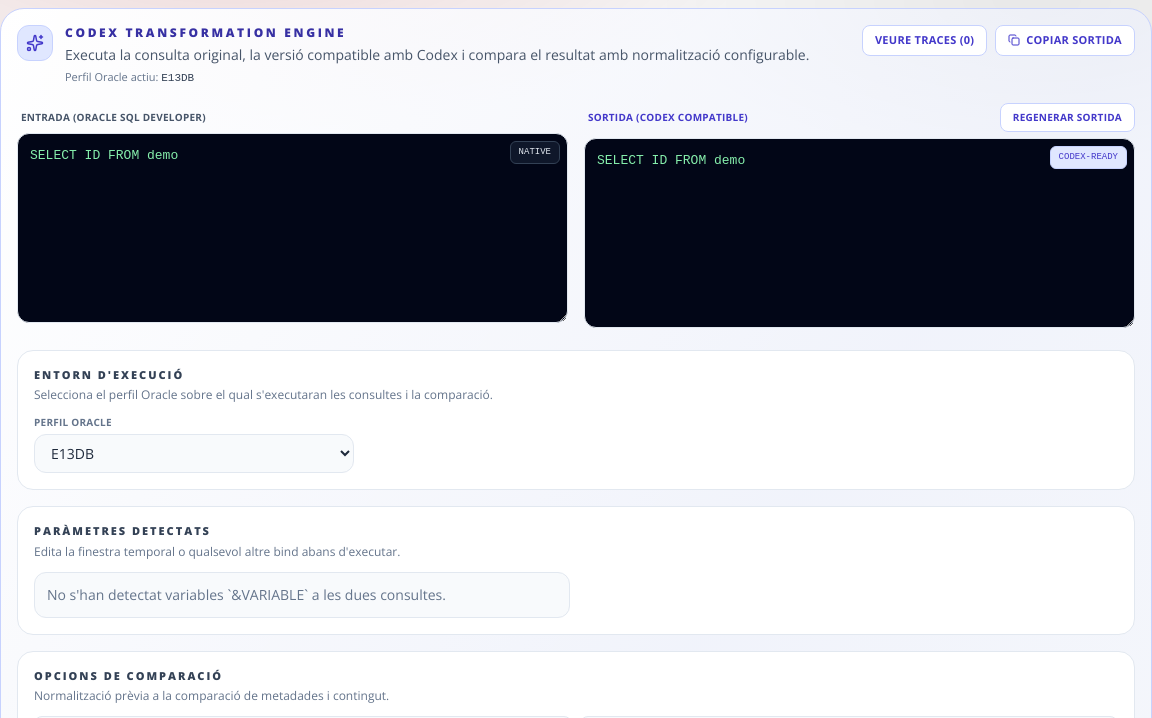
SQLCodexWorkbench compares results and renders ai analysis
Select "E13QA" in the dropdown named "Entorn d'execució" at (194, 454), box [34,434,354,473]
(page scrolled)
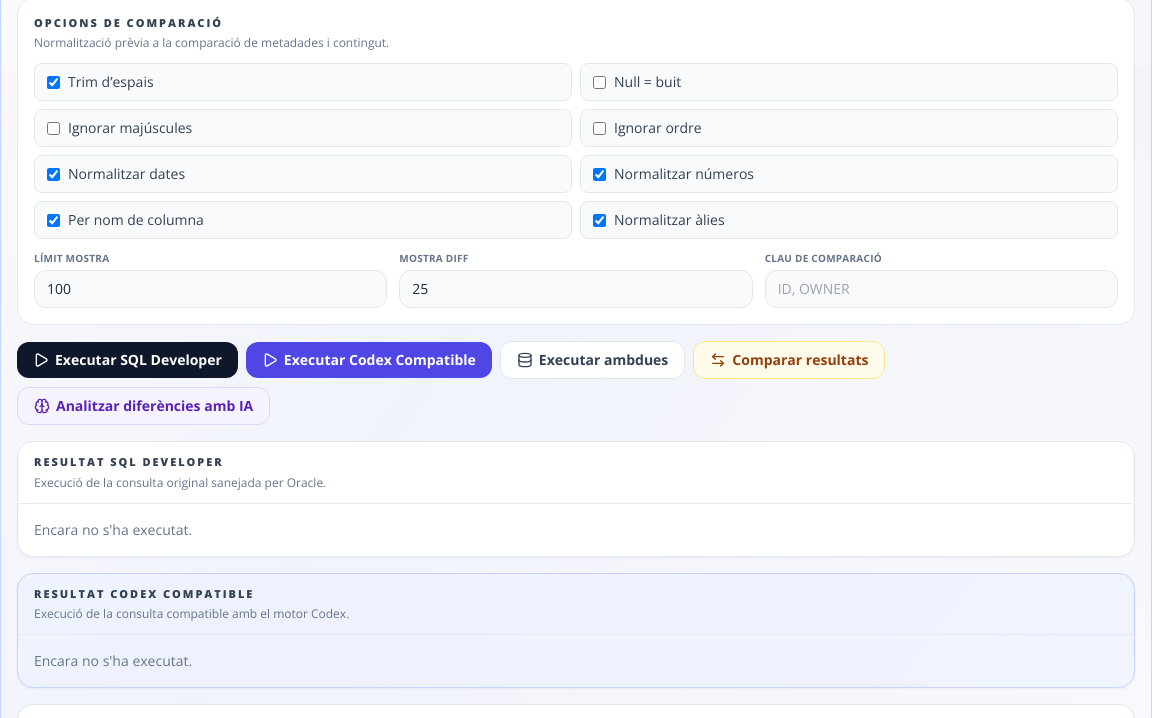
Click the button "Comparar resultats" at (789, 360), box [693,341,885,379]
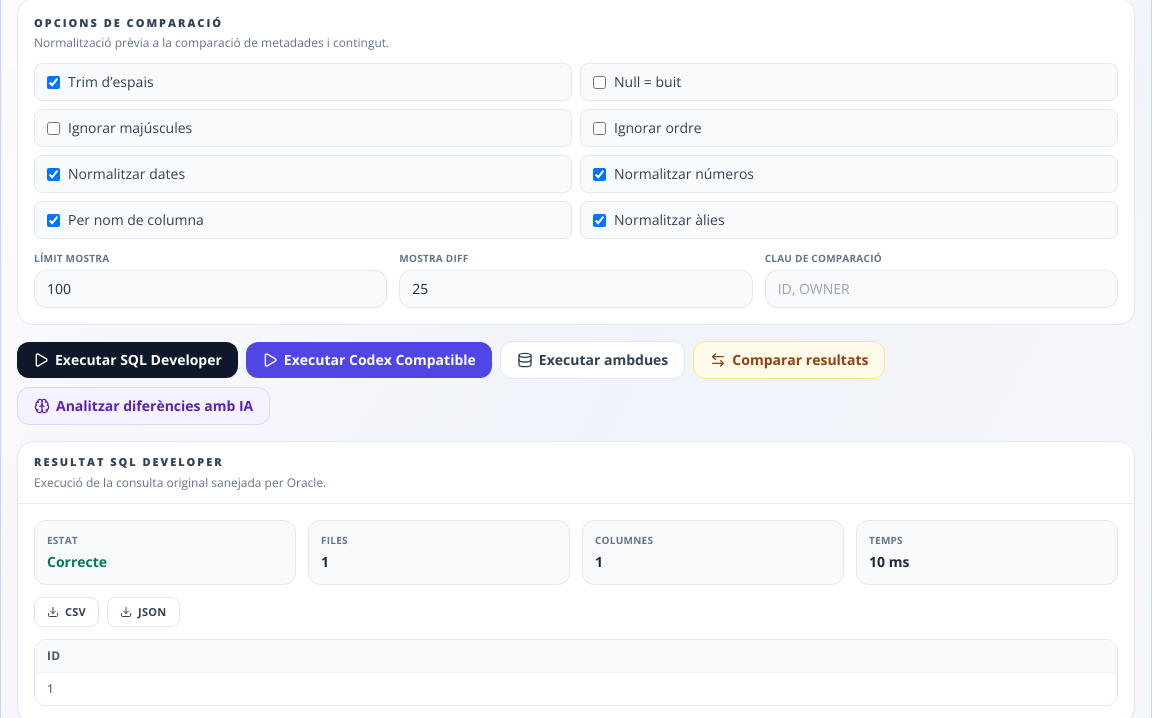
Click the button "Analitzar diferències amb IA" at (144, 406), box [17,387,270,425]
(page scrolled)
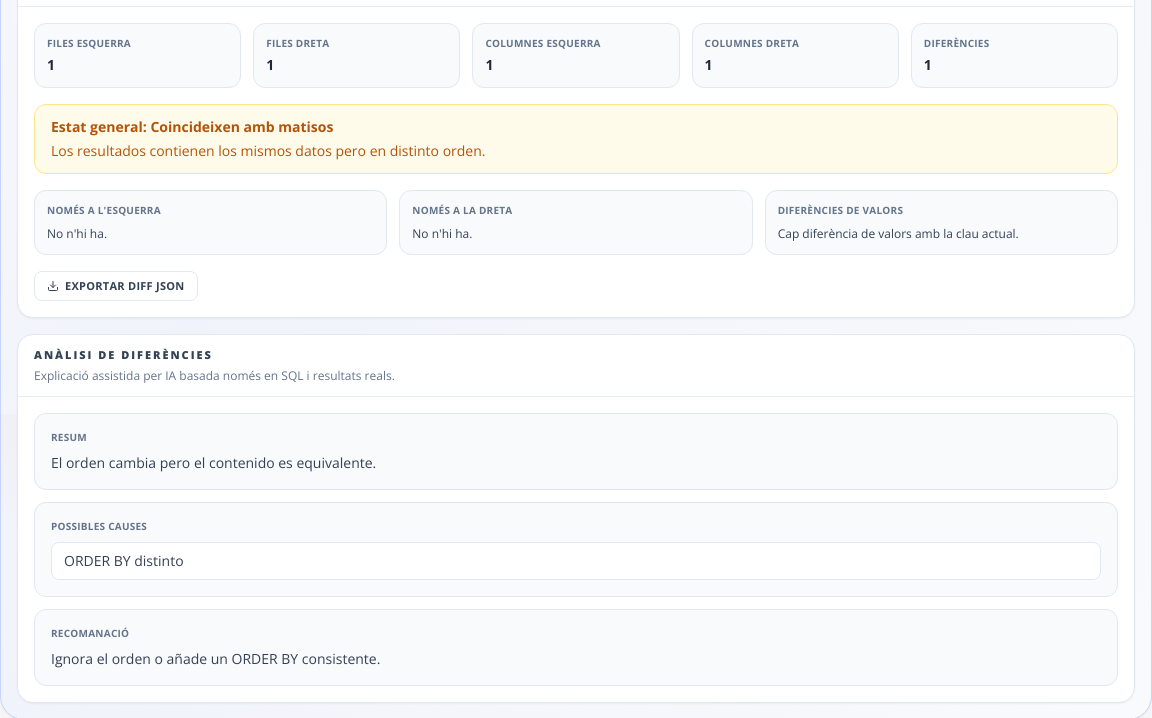
Expected: the text "El orden cambia pero el contenido es equivalente." is shown, [51,452,376,472]
Expected: the text "ORDER BY distinto" is shown, [51,542,1101,580]
